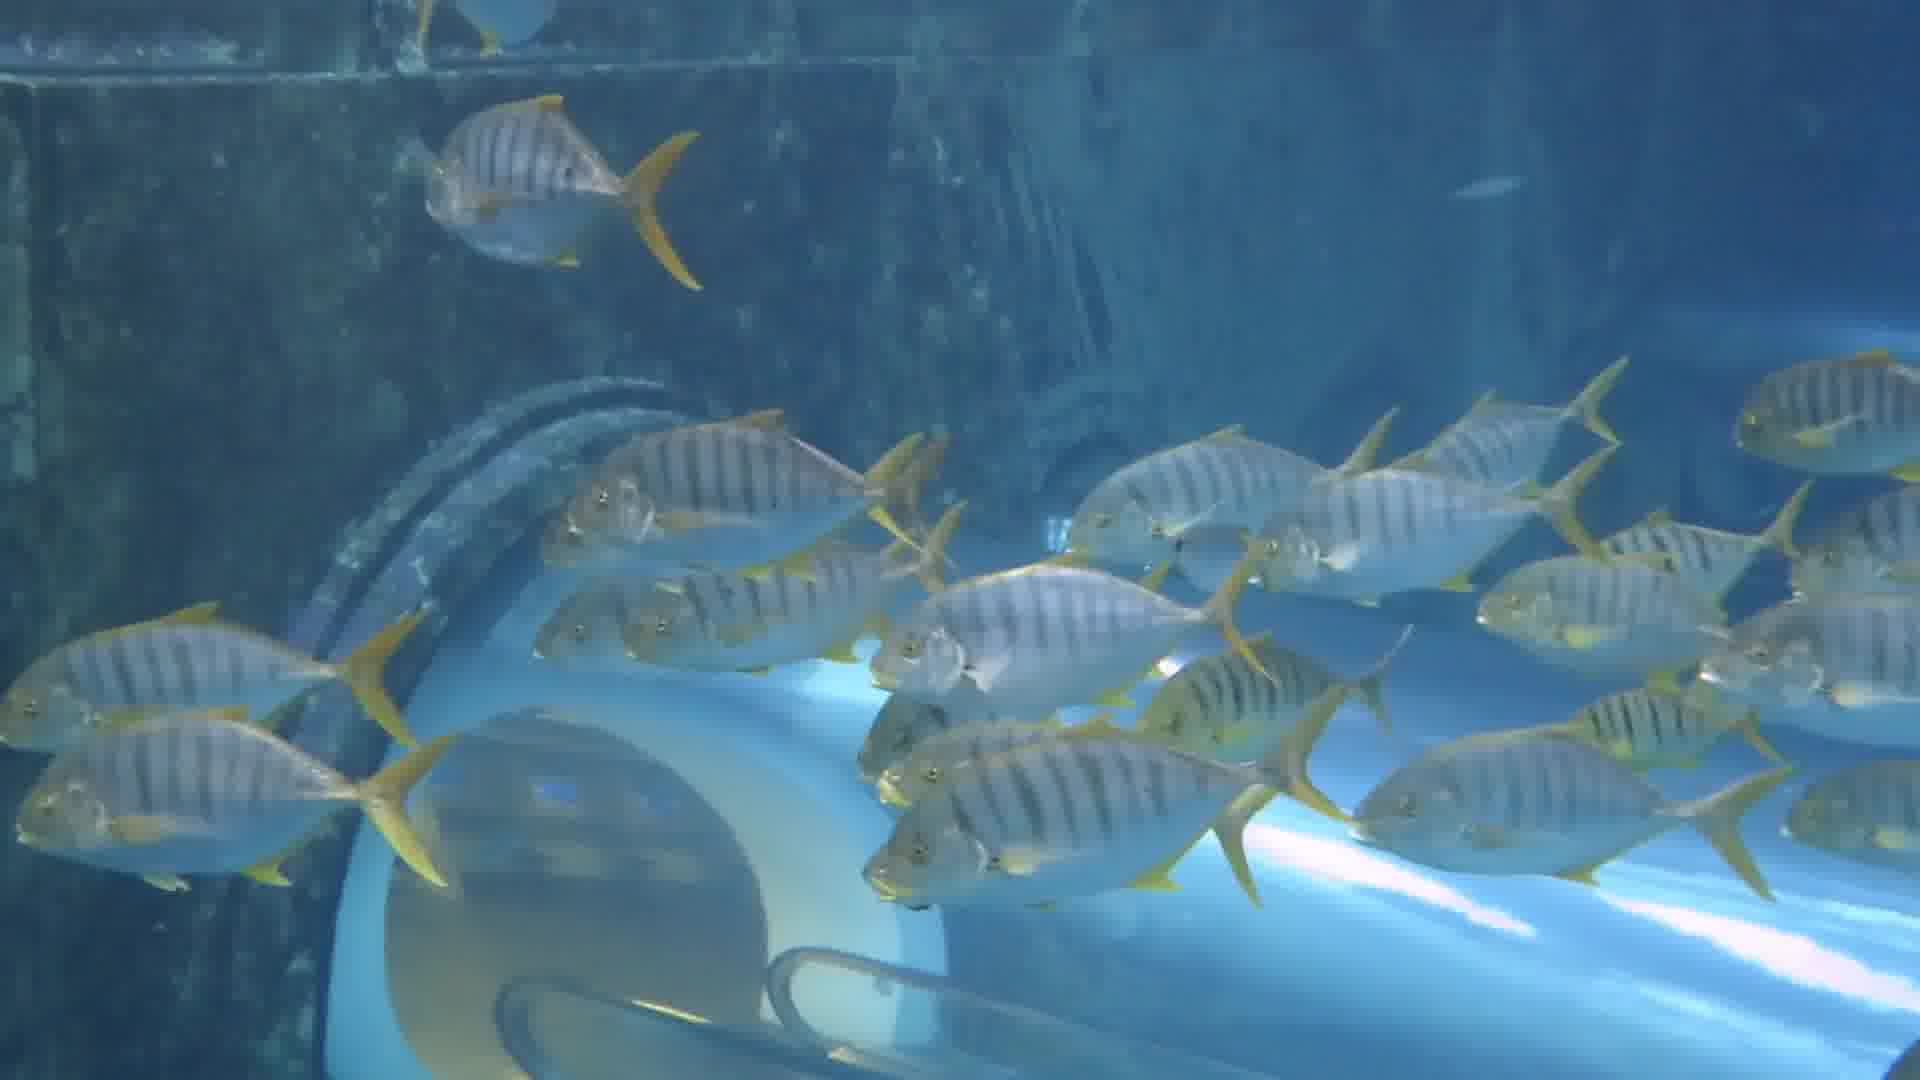Gnathanodon speciosus: (880, 721, 1345, 906), (404, 98, 717, 328), (24, 738, 448, 893), (1350, 735, 1779, 874), (870, 559, 1265, 705), (629, 508, 961, 680), (553, 411, 927, 560), (3, 605, 423, 735), (1257, 455, 1609, 593), (1054, 419, 1352, 541), (1468, 560, 1749, 665), (1735, 342, 1920, 480)
